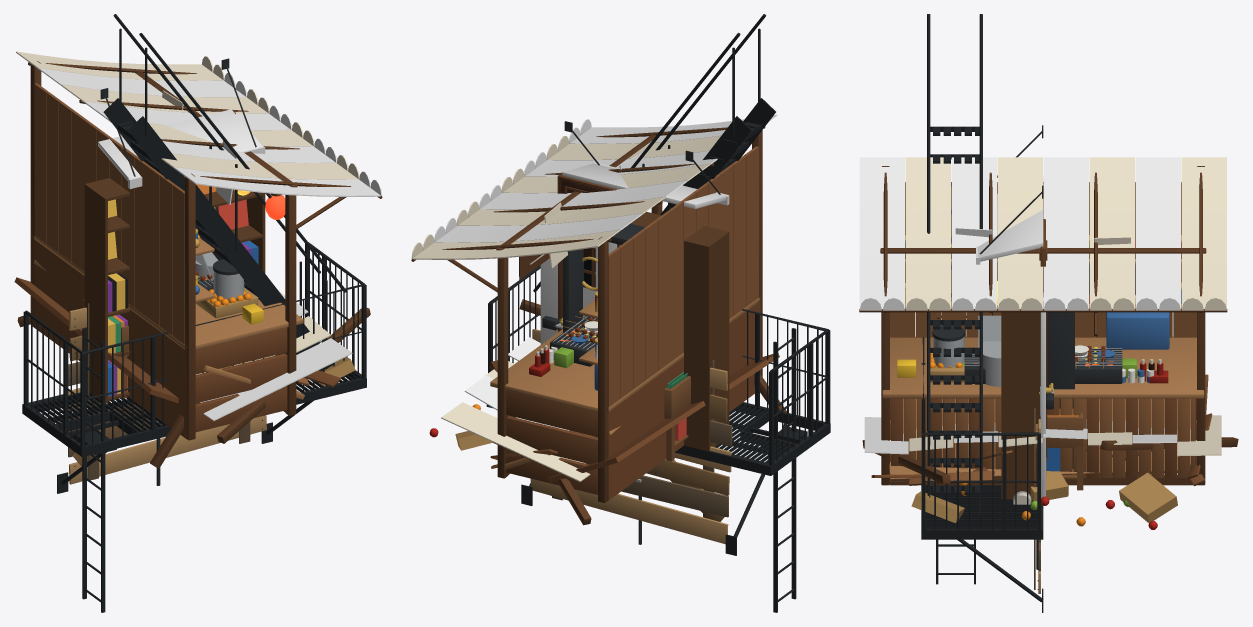
The model's file is market-kit.glb.
3 views of the same model, side by side, from view 1: azimuth 30°, elevation 25°; view 2: azimuth 150°, elevation 25°; view 3: azimuth 270°, elevation 25° (orthographic). The views are drawn at different scales.
Parts seen in each view (by area): view 1: stall_body, stall_awning, escape_platform, record_shelf, escape_stair, stall_wreck, boards, frame_steel, escape_ladder, goods_tea, goods_fruit, goods_trinkets (+1 smaller); view 2: stall_body, stall_awning, escape_platform, boards, record_shelf, stall_wreck, escape_stair, frame_steel, escape_ladder, door_steel, record_bin, goods_grill (+3 smaller); view 3: stall_awning, stall_body, stall_wreck, escape_platform, escape_stair, record_shelf, frame_steel, goods_grill, goods_noodles, record_bin, goods_tea, door_steel (+3 smaller).
Boxes of the visible parts, bbox=[...] form: stall_body: bbox=[30, 61, 346, 440]; stall_awning: bbox=[16, 51, 382, 198]; escape_platform: bbox=[22, 242, 366, 493]; record_shelf: bbox=[84, 178, 265, 403]; escape_stair: bbox=[103, 14, 346, 385]; stall_wreck: bbox=[14, 260, 370, 468]; boards: bbox=[68, 303, 266, 484]; frame_steel: bbox=[98, 58, 265, 212]; escape_ladder: bbox=[72, 327, 116, 612]; goods_tea: bbox=[195, 228, 244, 299]; goods_fruit: bbox=[195, 287, 258, 318]; goods_trinkets: bbox=[195, 189, 285, 324]; stall_body: bbox=[447, 130, 762, 502]; stall_awning: bbox=[411, 114, 777, 261]; escape_platform: bbox=[486, 265, 830, 555]; boards: bbox=[530, 329, 732, 544]; record_shelf: bbox=[631, 211, 729, 451]; stall_wreck: bbox=[429, 299, 786, 525]; escape_stair: bbox=[533, 14, 775, 292]; frame_steel: bbox=[562, 121, 729, 332]; escape_ladder: bbox=[763, 328, 807, 612]; door_steel: bbox=[540, 242, 620, 344]; record_bin: bbox=[664, 372, 690, 461]; goods_grill: bbox=[550, 316, 597, 390]; stall_awning: bbox=[859, 157, 1227, 312]; stall_body: bbox=[880, 166, 1206, 485]; stall_wreck: bbox=[862, 374, 1238, 529]; escape_platform: bbox=[921, 312, 1043, 612]; escape_stair: bbox=[927, 14, 982, 516]; record_shelf: bbox=[1001, 285, 1043, 499]; frame_steel: bbox=[976, 125, 1074, 468]; goods_grill: bbox=[964, 312, 1169, 383]; goods_noodles: bbox=[978, 297, 1163, 386]; record_bin: bbox=[1046, 409, 1083, 490]; goods_tea: bbox=[905, 235, 1181, 383]; door_steel: bbox=[1039, 292, 1053, 498].
Bounding box in the file's own units: 3.36 × 6.16 × 3.61.
